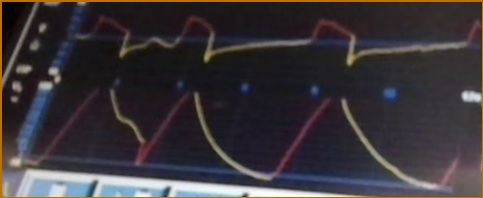Ineffective_effort Flow: (76, 9, 482, 68)
Ineffective_effort Volume: (27, 86, 458, 189)
